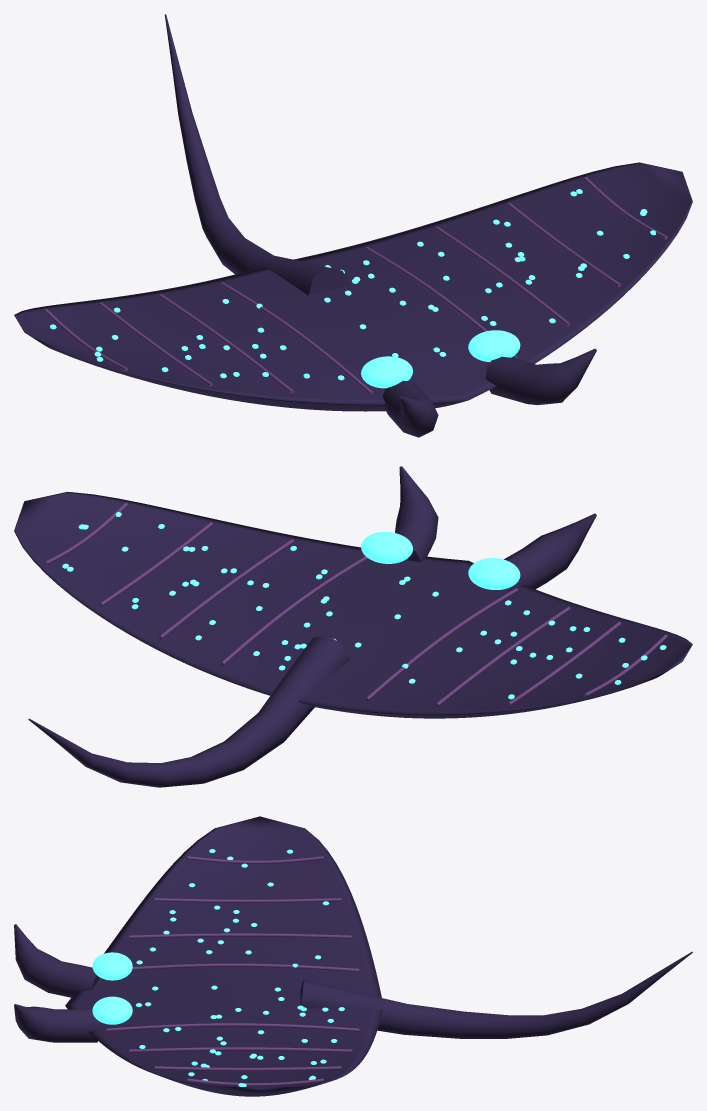
The model's file is m_arraia.glb.
The picture shows the model from 3 angles, top to bottom: view 1: azimuth 30°, elevation 25°; view 2: azimuth 150°, elevation 25°; view 3: azimuth 270°, elevation 25°; orthographic projection. The views are drawn at different scales.
Visible parts, largest first — view 1: Corpo e asas continuos, Cauda afiada, Lobo cefalico.001, Lobo cefalico, Olho, Olho.001, Nervura da asa, Nervura da asa.005, Nervura da asa.001, Nervura da asa.004, Nervura da asa.006; view 2: Corpo e asas continuos, Cauda afiada, Lobo cefalico, Lobo cefalico.001, Olho, Olho.001, Nervura da asa, Nervura da asa.004, Nervura da asa.005, Nervura da asa.001, Nervura da asa.002, Nervura da asa.006; view 3: Corpo e asas continuos, Cauda afiada, Lobo cefalico, Lobo cefalico.001, Nervura da asa.004, Olho.001, Olho, Nervura da asa.001, Nervura da asa, Nervura da asa.005, Nervura da asa.002, Nervura da asa.006 (+2 smaller).
Part boxes in pixels (<box>): Corpo e asas continuos: <box>14,162,692,411</box>; Cauda afiada: <box>164,14,350,295</box>; Lobo cefalico.001: <box>485,348,596,405</box>; Lobo cefalico: <box>382,380,438,437</box>; Olho: <box>361,356,412,388</box>; Olho.001: <box>468,330,520,361</box>; Nervura da asa: <box>220,282,373,394</box>; Nervura da asa.005: <box>435,226,570,326</box>; Nervura da asa.001: <box>159,294,293,393</box>; Nervura da asa.004: <box>365,246,518,358</box>; Nervura da asa.006: <box>507,202,621,287</box>; Corpo e asas continuos: <box>14,491,692,718</box>; Cauda afiada: <box>28,635,350,787</box>; Lobo cefalico: <box>504,513,596,589</box>; Lobo cefalico.001: <box>395,466,438,561</box>; Olho: <box>468,558,520,589</box>; Olho.001: <box>361,532,412,563</box>; Nervura da asa: <box>365,588,518,701</box>; Nervura da asa.004: <box>220,556,368,665</box>; Nervura da asa.005: <box>158,539,294,639</box>; Nervura da asa.001: <box>435,606,570,706</box>; Nervura da asa.002: <box>507,621,621,706</box>; Nervura da asa.006: <box>99,522,212,606</box>; Corpo e asas continuos: <box>65,816,382,1096</box>; Cauda afiada: <box>300,951,692,1038</box>; Lobo cefalico: <box>14,924,99,997</box>; Lobo cefalico.001: <box>14,1004,101,1042</box>; Nervura da asa.004: <box>106,1023,359,1031</box>; Olho.001: <box>92,996,132,1024</box>; Olho: <box>92,952,132,980</box>; Nervura da asa.001: <box>129,933,352,938</box>; Nervura da asa: <box>132,963,359,971</box>; Nervura da asa.005: <box>129,1047,352,1052</box>; Nervura da asa.002: <box>155,898,341,902</box>; Nervura da asa.006: <box>155,1066,341,1070</box>.
Bounding box in the file's own units: 2.7 × 0.6223 × 2.86.
